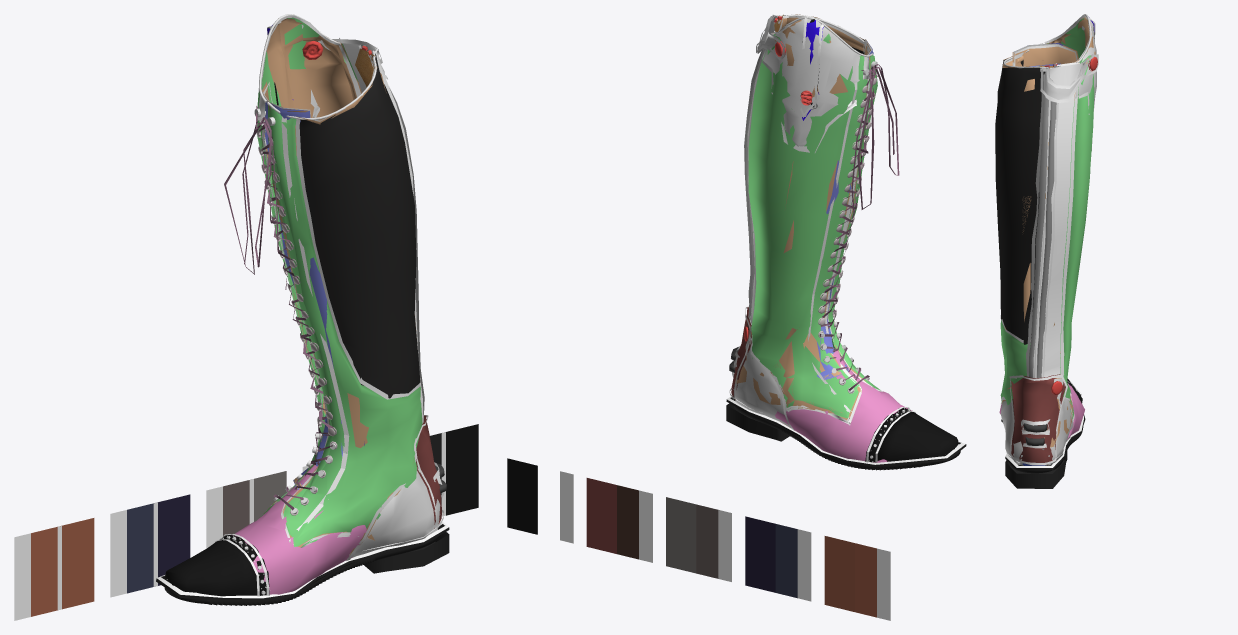
The model's file is Laval.glb.
3 renders of one model, left to right at view 1: azimuth 30°, elevation 25°; view 2: azimuth 150°, elevation 25°; view 3: azimuth 270°, elevation 25°, orthographic. The views are drawn at different scales.
Parts seen in each view (by area): view 1: 05_Patch, 05_Shaft, selector_cognac, selector_blue, 05_Shaft_inner, 01_Foot_section, 02_Toe_cap, selector_grey, 04_Heel, selector_black, 05_Laces, 05_Laces_rings (+11 smaller); view 2: 05_Shaft, Top_dick, selector_blue, selector_braun, selector_cognac, selector_grey, 01_Foot_section, 02_Toe_cap, selector_black, 05_Laces, 05_Shaft_inner, 04_Heel (+10 smaller); view 3: 05_Patch, 05_Shaft, 05_Elastic_shaft, 08_Part_along_zipper, 072_Bottom_zip_guard, 04_Heel, 05_Shaft_stitches_8, 11_Sole_heel, 05_Tongue_inner, 08_Part_along_zipper_stitches_1, Zipper, 08_Part_along_zipper_stitches_2 (+9 smaller).
Part boxes in pixels (x1,y1,x2,y2): 05_Patch: (299, 53, 420, 398); 05_Shaft: (257, 17, 422, 547); selector_cognac: (14, 518, 94, 620); selector_blue: (110, 494, 190, 597); 05_Shaft_inner: (260, 18, 414, 547); 01_Foot_section: (232, 465, 366, 594); 02_Toe_cap: (165, 535, 269, 596); selector_grey: (206, 471, 286, 548); 04_Heel: (349, 467, 440, 557); selector_black: (430, 424, 478, 516); 05_Laces: (224, 106, 333, 510); 05_Laces_rings: (256, 121, 337, 515); 05_Shaft: (748, 29, 880, 418); Top_dick: (762, 18, 869, 146); selector_blue: (745, 516, 811, 601); selector_braun: (586, 478, 652, 562); selector_cognac: (824, 536, 890, 620); selector_grey: (666, 497, 731, 581); 01_Foot_section: (775, 350, 911, 462); 02_Toe_cap: (865, 407, 958, 462); selector_black: (507, 458, 573, 543); 05_Laces: (820, 64, 899, 390); 05_Shaft_inner: (772, 20, 870, 420); 04_Heel: (734, 316, 790, 427); 05_Patch: (995, 58, 1045, 344); 05_Shaft: (1000, 18, 1094, 418); 05_Elastic_shaft: (1041, 62, 1077, 377); 08_Part_along_zipper: (1029, 64, 1059, 449); 072_Bottom_zip_guard: (1011, 374, 1065, 462); 04_Heel: (1000, 376, 1073, 465); 05_Shaft_stitches_8: (1060, 63, 1079, 375); 11_Sole_heel: (1005, 450, 1067, 488); 05_Tongue_inner: (1012, 45, 1078, 66); 08_Part_along_zipper_stitches_1: (1026, 71, 1043, 376); Zipper: (1033, 63, 1056, 378); 08_Part_along_zipper_stitches_2: (1042, 65, 1060, 377).
Size of what is drawn, in the model's own units: 5.8 by 7.45 by 3.11.
Materials: 39 (1 with a texture image).
